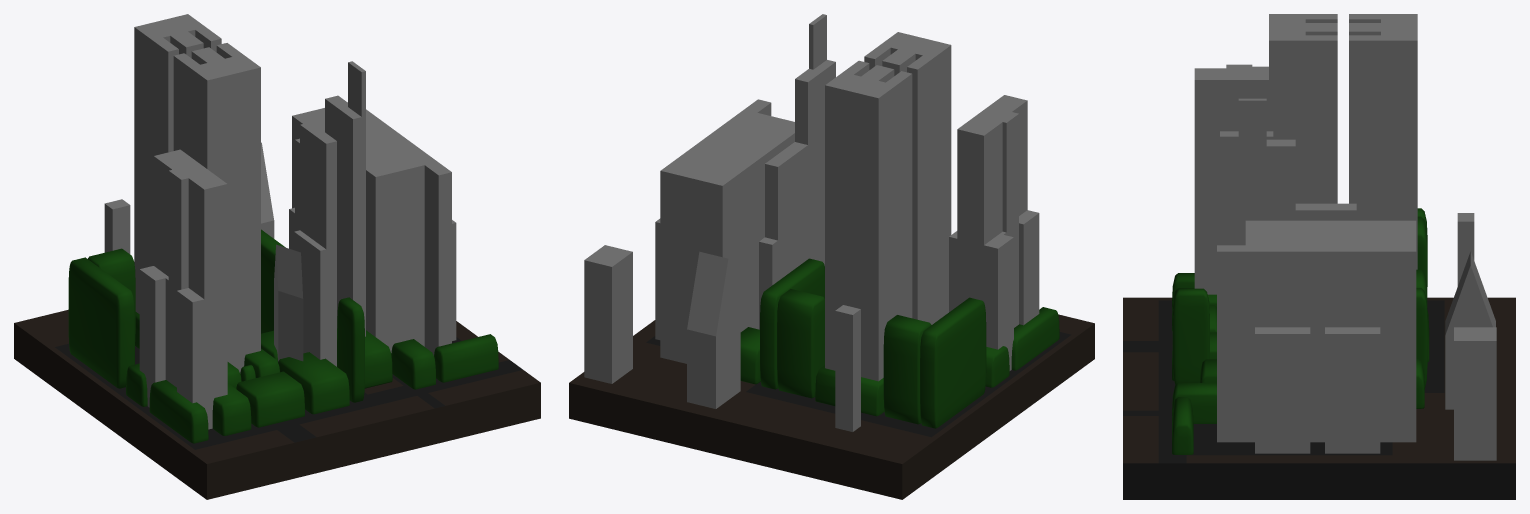
File: Administration Building Area_middle_cube.fbx
The picture shows the model from 3 angles, left to right: view 1: azimuth 30°, elevation 25°; view 2: azimuth 150°, elevation 25°; view 3: azimuth 270°, elevation 25°; orthographic projection. The views are drawn at different scales.
Parts seen in each view (by area): view 1: Admin_m_cube; view 2: Admin_m_cube; view 3: Admin_m_cube.
Part boxes in pixels (<box>): Admin_m_cube: <box>14,14,540,499</box>; Admin_m_cube: <box>569,14,1094,499</box>; Admin_m_cube: <box>1123,14,1515,499</box>.
Size of the model in its own units: 100 by 100 by 100.
